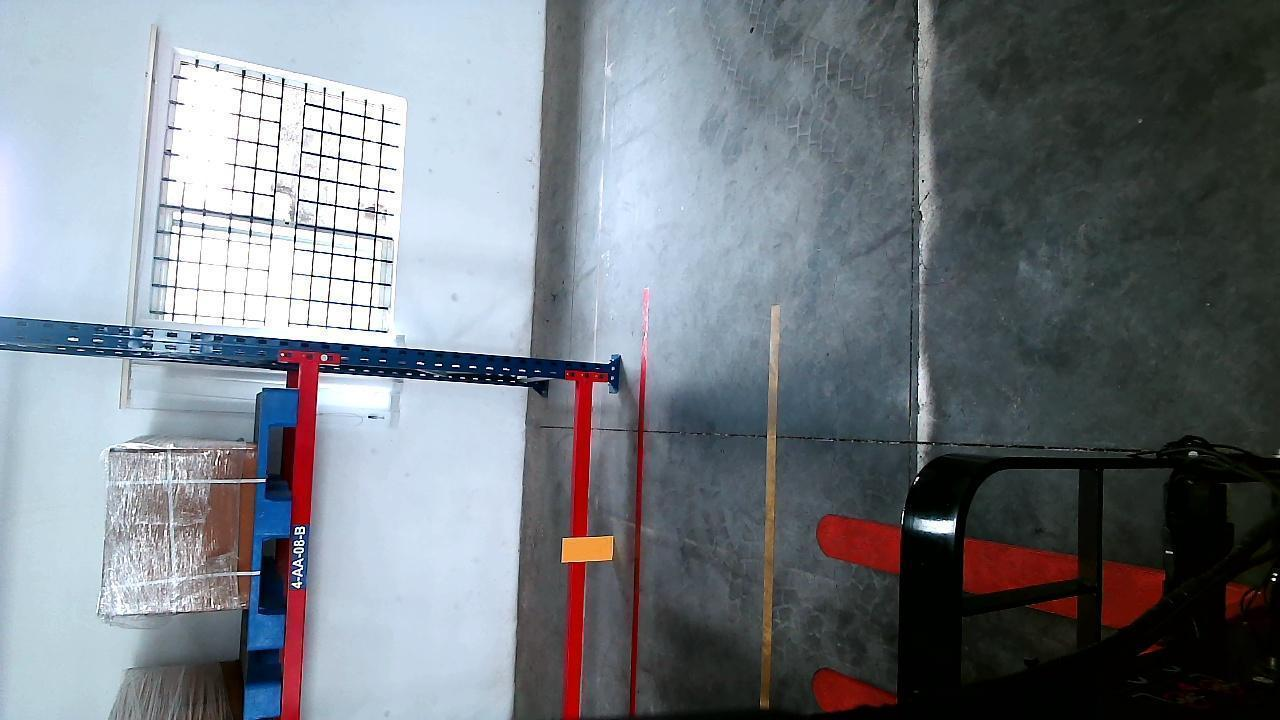red_line: (630, 293, 654, 720)
yellow_line: (761, 303, 782, 716)
